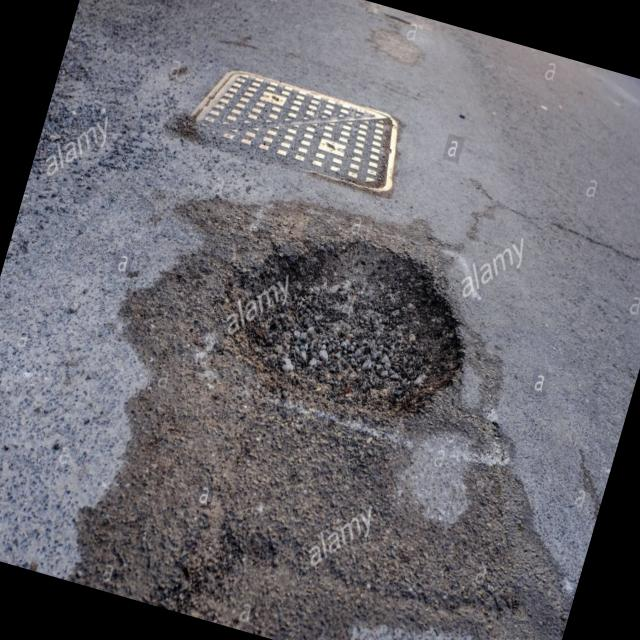Potholes: (144, 166, 543, 496), (159, 444, 586, 640)
